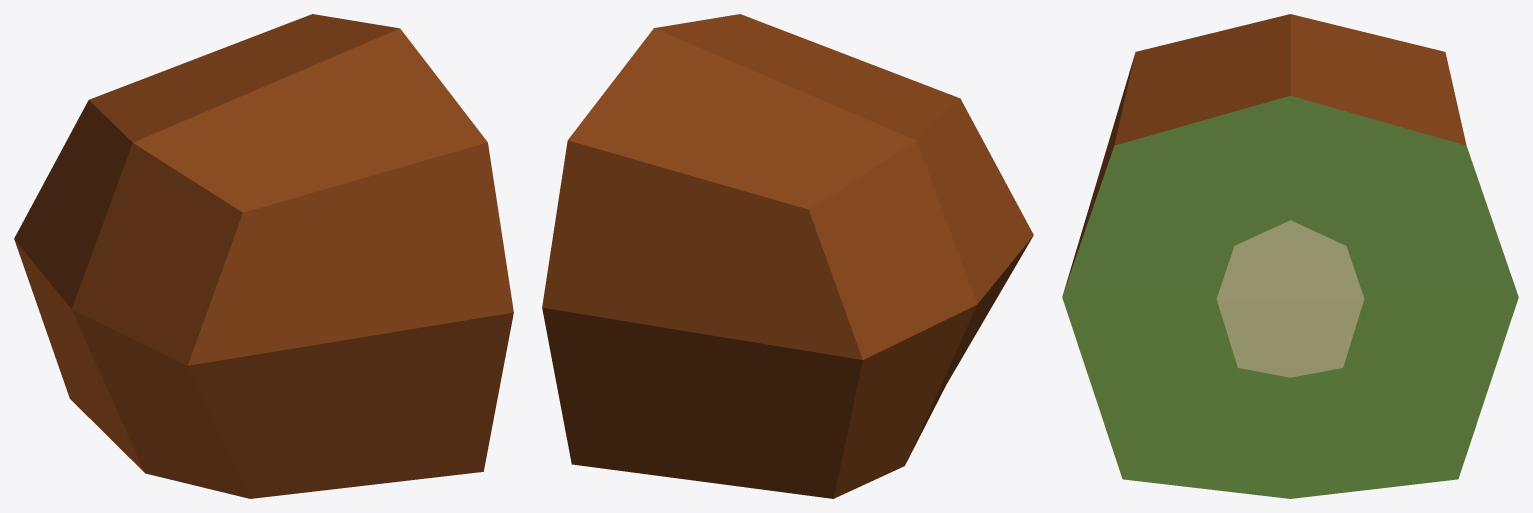
File: kiwiHalf.fbx
3 views of the same model, side by side, from view 1: azimuth 30°, elevation 25°; view 2: azimuth 150°, elevation 25°; view 3: azimuth 270°, elevation 25° (orthographic). The views are drawn at different scales.
Parts seen in each view (by area): view 1: kiwiHalf; view 2: kiwiHalf; view 3: kiwiHalf.
Part boxes in pixels (x1,y1,x2,y2): kiwiHalf: (14, 14, 513, 498); kiwiHalf: (542, 14, 1033, 498); kiwiHalf: (1062, 14, 1518, 498).
Bounding box in the file's own units: 4.08 × 4.76 × 4.89.
Materials: 1 (1 with a texture image).
